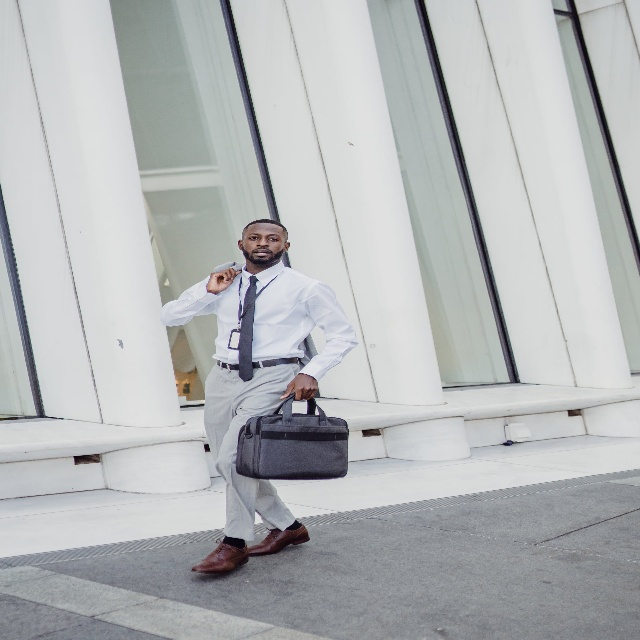Sin_guantes: (280, 373, 318, 402), (205, 266, 241, 295)
